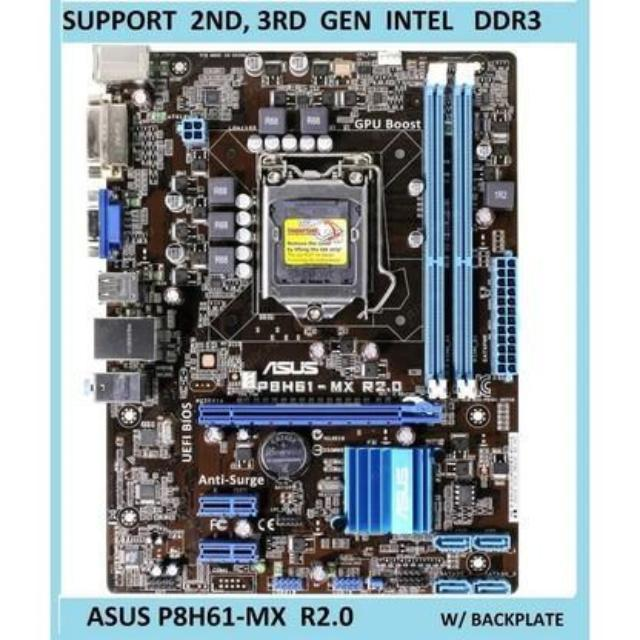Mainboard: (82, 39, 527, 596)
